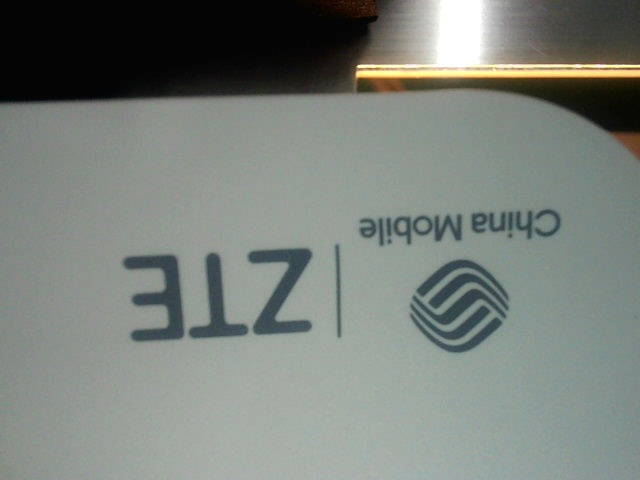AL_ZTEChinaMobile: (119, 203, 575, 358)
